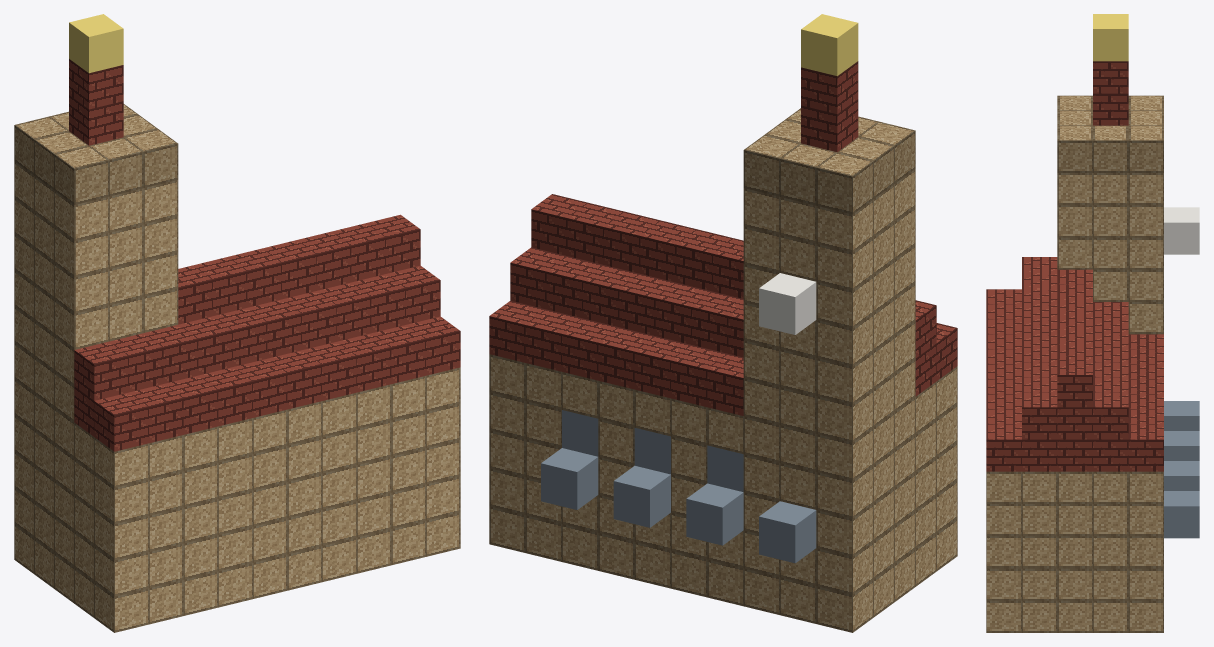
The model's file is nydeggkirche.glb.
3 views of the same model, side by side, from view 1: azimuth 30°, elevation 25°; view 2: azimuth 150°, elevation 25°; view 3: azimuth 270°, elevation 25° (orthographic). The views are drawn at different scales.
Visible parts, largest first — view 1: nydeggkirche; view 2: nydeggkirche; view 3: nydeggkirche.
Boxes of the visible parts, x1,y1,x2,y2 form: nydeggkirche: [14, 14, 460, 632]; nydeggkirche: [489, 14, 957, 632]; nydeggkirche: [986, 14, 1199, 632].
Size of the model in its own units: 10 by 15 by 6.
Materials: 1 (1 with a texture image).
